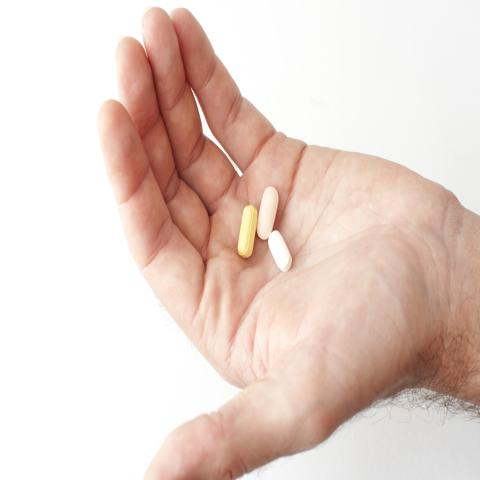Pill: (254, 221, 300, 284), (227, 197, 256, 285), (253, 178, 281, 244)
